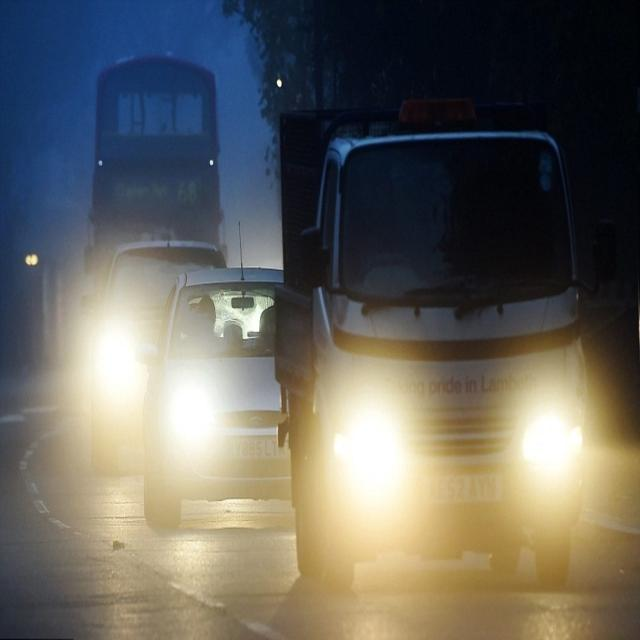bus: (274, 104, 591, 584)
car: (136, 274, 318, 532), (94, 242, 238, 473)
truck: (84, 55, 226, 373)
